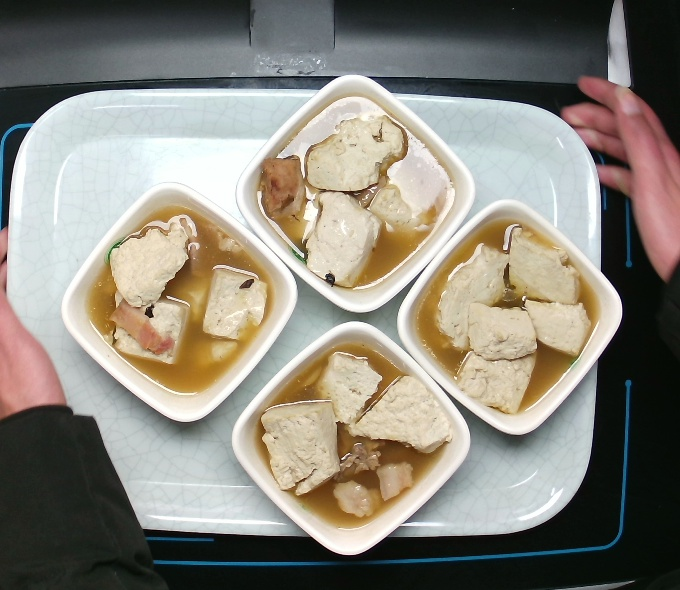wcq-DouFuRouTang: (249, 90, 461, 299), (234, 337, 450, 535), (72, 202, 288, 400), (400, 210, 601, 421)
